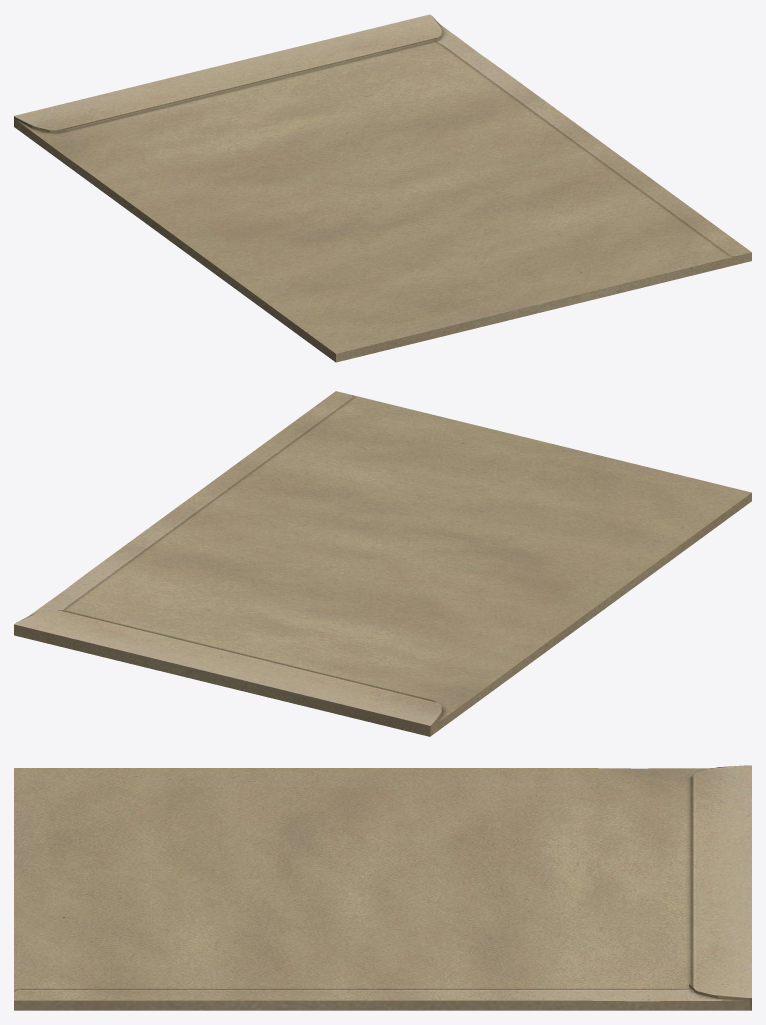
Rendered from Envelope.fbx.
3 views of the same model, one above another, from view 1: azimuth 30°, elevation 25°; view 2: azimuth 150°, elevation 25°; view 3: azimuth 270°, elevation 25° (orthographic). The views are drawn at different scales.
Parts seen in each view (by area): view 1: Envelope; view 2: Envelope; view 3: Envelope.
Boxes of the visible parts, bbox=[...] form: Envelope: bbox=[14, 14, 751, 362]; Envelope: bbox=[14, 391, 751, 736]; Envelope: bbox=[14, 765, 751, 1010].
Size of what is drawn, in the model's own units: 25.6 by 0.6476 by 34.31.
